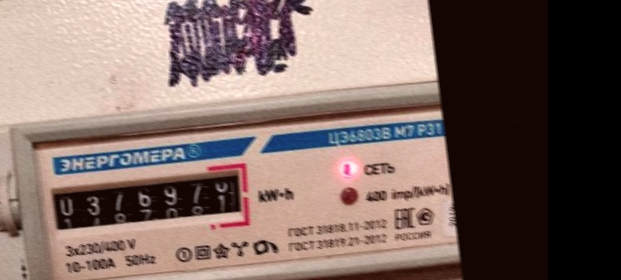0: (55, 192, 72, 216)
1: (213, 191, 226, 212)
3: (83, 193, 100, 215)
6: (133, 182, 151, 207)
7: (108, 186, 126, 212), (185, 179, 203, 204)
9: (159, 181, 176, 205)
screen: (39, 150, 255, 251)
